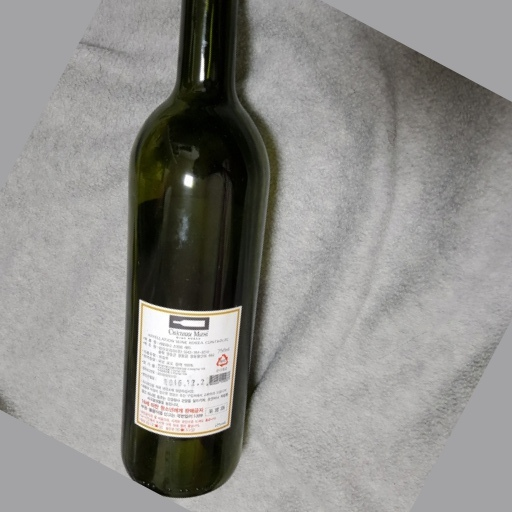Glass_2: (116, 2, 276, 502)
